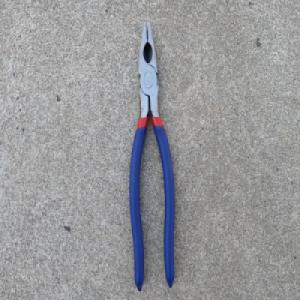Pliers: (128, 20, 176, 294)
